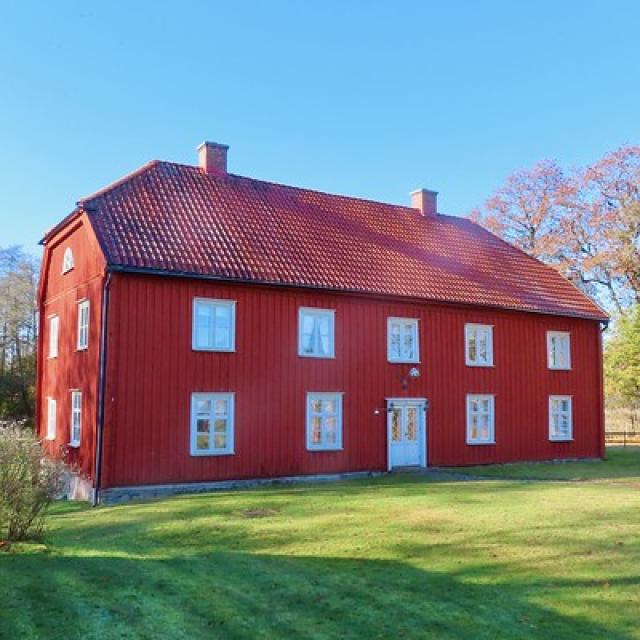building: (31, 138, 614, 512)
